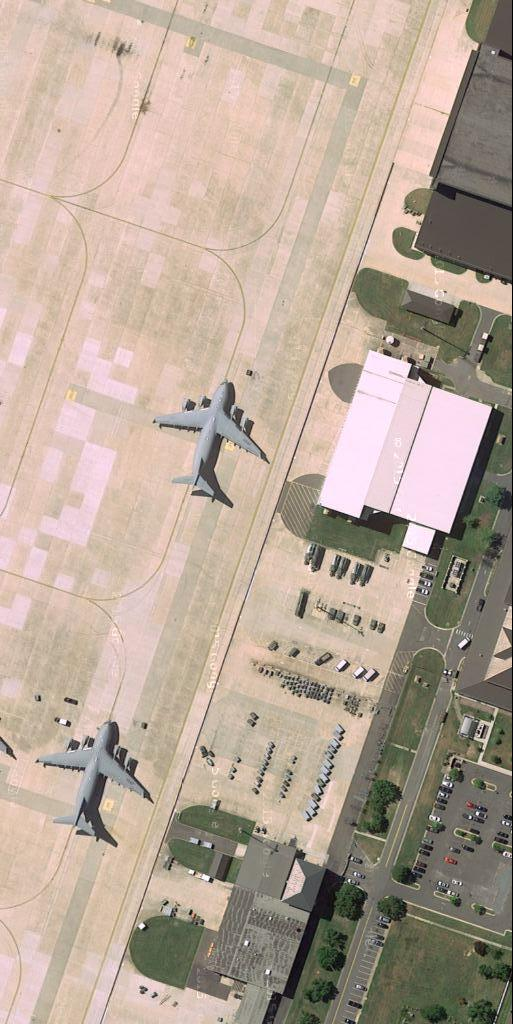C-17: (33, 719, 158, 846), (152, 374, 271, 504)
